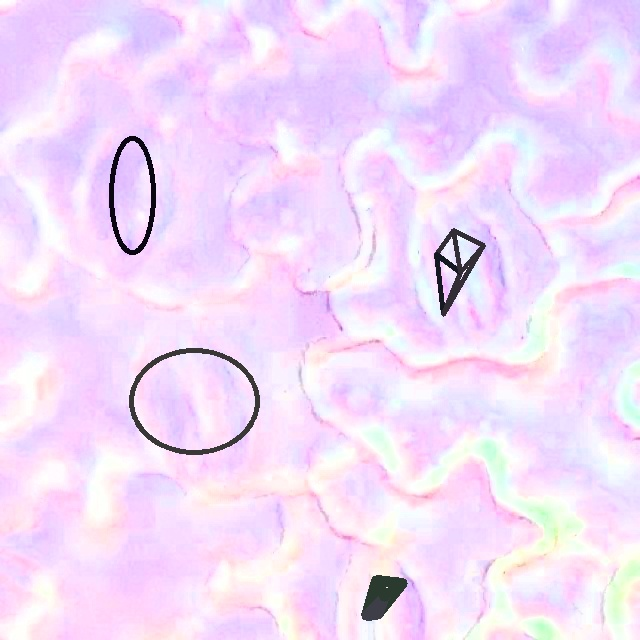close: (361, 575, 407, 618)
open: (128, 348, 260, 454), (108, 135, 157, 255), (434, 228, 485, 316)
